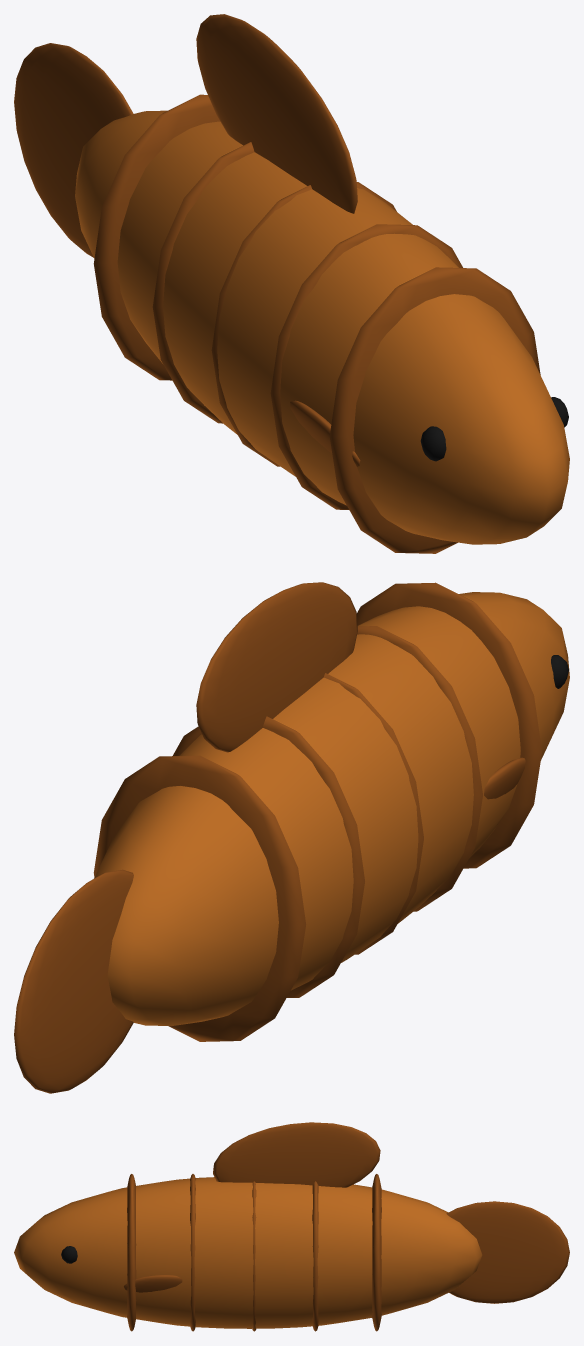
File: grouper.glb
3 views of the same model, one above another, from view 1: azimuth 30°, elevation 25°; view 2: azimuth 150°, elevation 25°; view 3: azimuth 270°, elevation 25° (orthographic). The views are drawn at different scales.
Parts seen in each view (by area): view 1: grouper; view 2: grouper; view 3: grouper.
Boxes of the visible parts, <box> form: grouper: <box>14,14,569,553</box>; grouper: <box>14,582,569,1093</box>; grouper: <box>14,1122,569,1331</box>.
Size of the model in its own units: 0.2704 by 0.4791 by 1.18.
